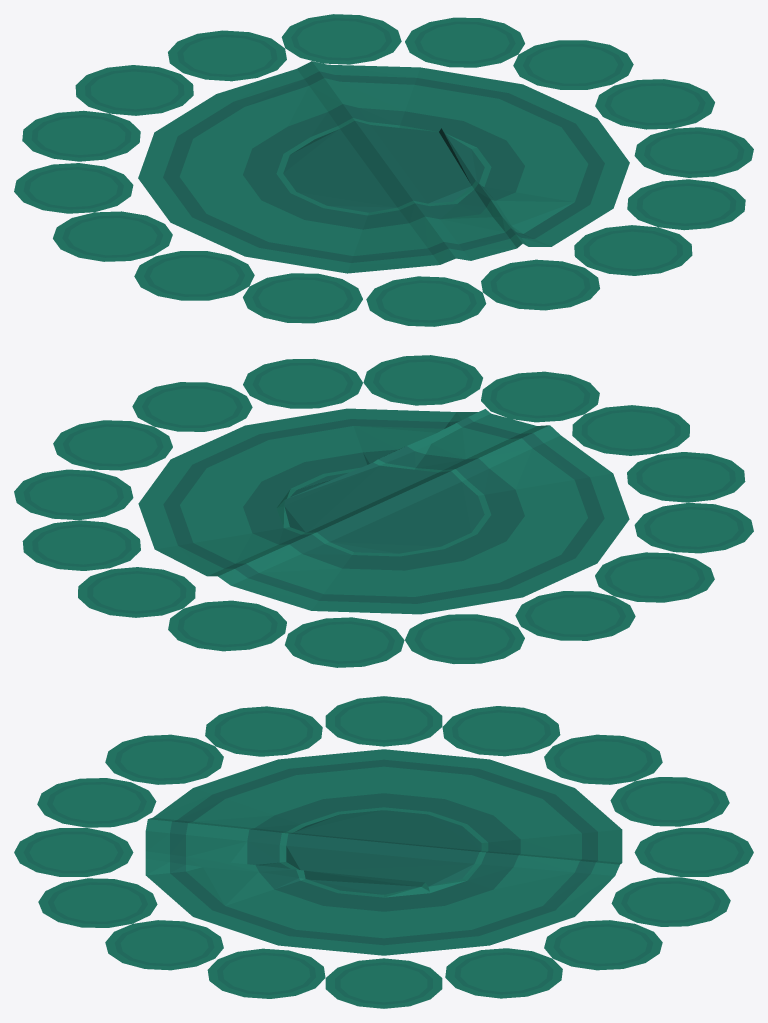
Rendered from SFHW_Rug_012.fbx.
The picture shows the model from 3 angles, top to bottom: view 1: azimuth 30°, elevation 25°; view 2: azimuth 150°, elevation 25°; view 3: azimuth 270°, elevation 25°; orthographic projection.
Visible parts, largest first — view 1: SFHW_Rug_012; view 2: SFHW_Rug_012; view 3: SFHW_Rug_012.
Boxes of the visible parts, left/top/right/bottom form: SFHW_Rug_012: left=14, top=14, right=753, bottom=326; SFHW_Rug_012: left=14, top=355, right=753, bottom=667; SFHW_Rug_012: left=14, top=696, right=753, bottom=1008.
Bounding box in the file's own units: 399 × 6.6 × 399.
